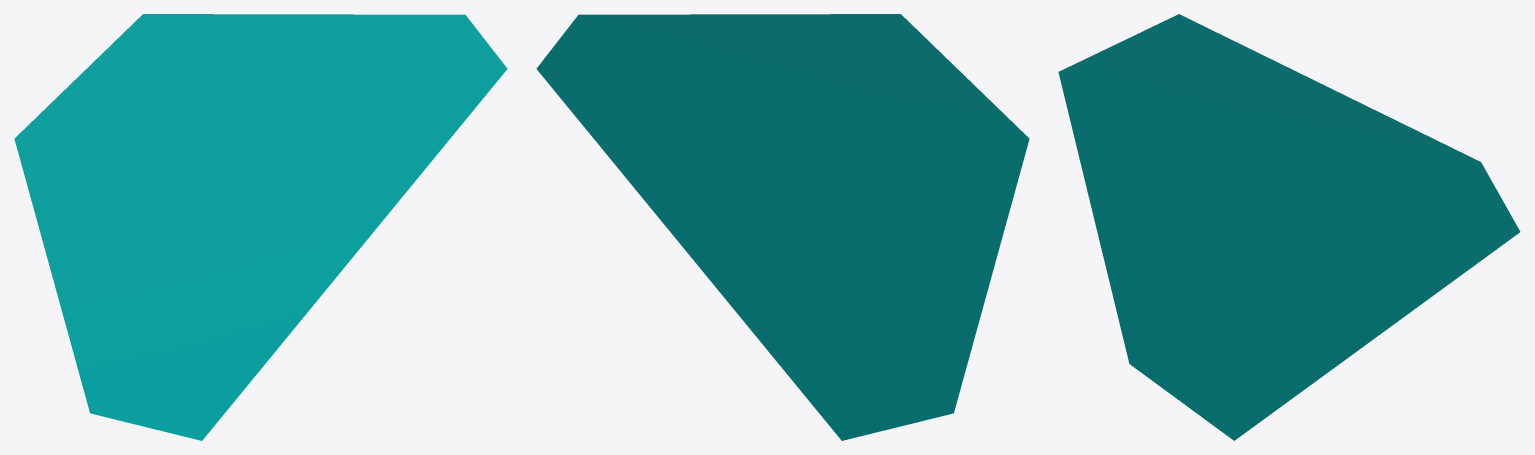
Rendered from Black_Locust_wdvhberja_Mid_wdvhberja_VarF_LOD3.fbx.
3 views of the same model, side by side, from view 1: azimuth 30°, elevation 25°; view 2: azimuth 150°, elevation 25°; view 3: azimuth 330°, elevation 25° (orthographic). The views are drawn at different scales.
Visible parts, largest first — view 1: _nncw_VarF_LOD4; view 2: _nncw_VarF_LOD4; view 3: _nncw_VarF_LOD4.
Part boxes in pixels (x1,y1,x2,y2): _nncw_VarF_LOD4: [14, 14, 507, 440]; _nncw_VarF_LOD4: [536, 14, 1029, 440]; _nncw_VarF_LOD4: [1058, 14, 1520, 440].
Size of the model in its own units: 20.1 by 17.18 by 0.
